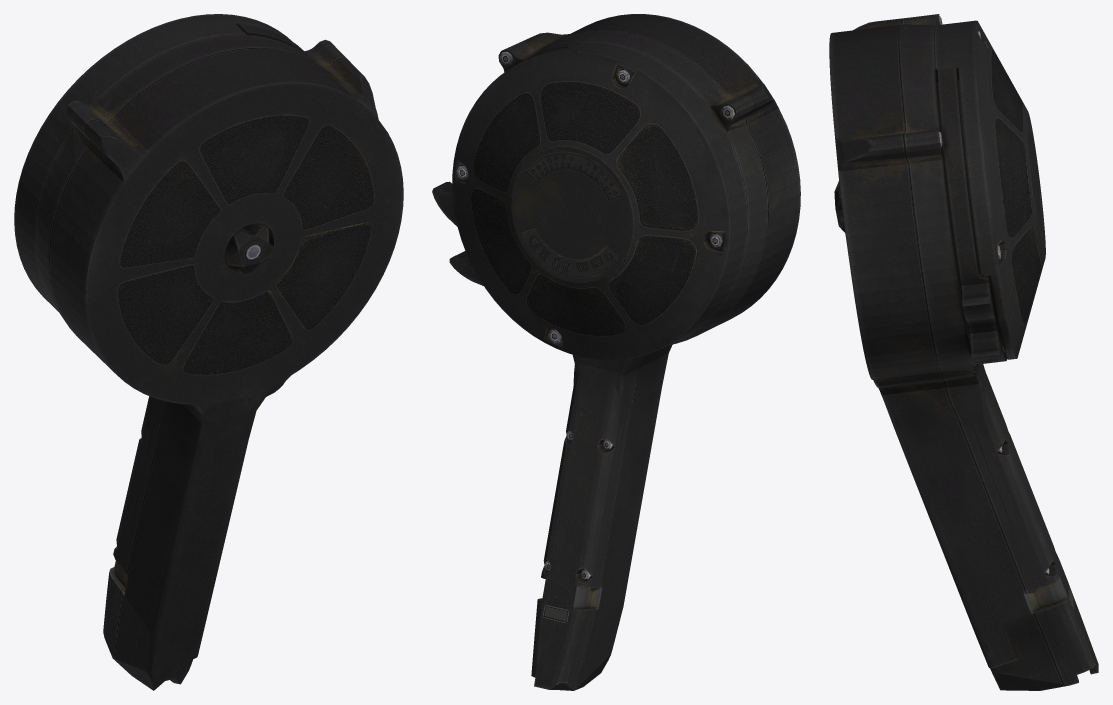
3 renders of one model, left to right at view 1: azimuth 30°, elevation 25°; view 2: azimuth 150°, elevation 25°; view 3: azimuth 270°, elevation 25°, orthographic. The views are drawn at different scales.
Parts seen in each view (by area): view 1: TW_5a718f958dc32e00094b97e7_PZ_Import; view 2: TW_5a718f958dc32e00094b97e7_PZ_Import; view 3: TW_5a718f958dc32e00094b97e7_PZ_Import.
Boxes of the visible parts, left/top/right/bottom form: TW_5a718f958dc32e00094b97e7_PZ_Import: left=14, top=14, right=403, bottom=690; TW_5a718f958dc32e00094b97e7_PZ_Import: left=432, top=14, right=800, bottom=690; TW_5a718f958dc32e00094b97e7_PZ_Import: left=829, top=14, right=1098, bottom=690.
Size of the model in its own units: 0.0735 by 0.0528 by 0.1402.
1 material, 1 textured.
